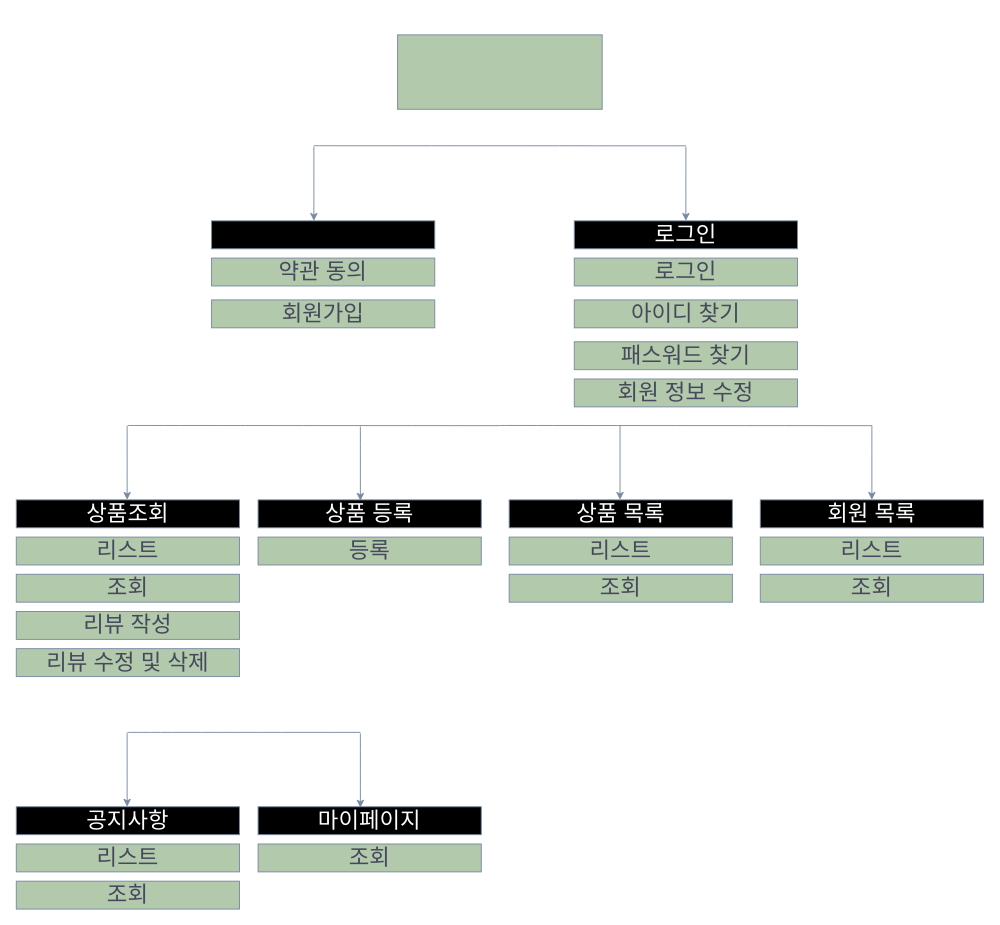
This 1000x925 diagram has some shape labels left out. Here are the shapes that lost their labels. From the top down, the centre of each, then its label:
At [499,71]: "Semi Project".
At [323,234]: "회원 가입".
